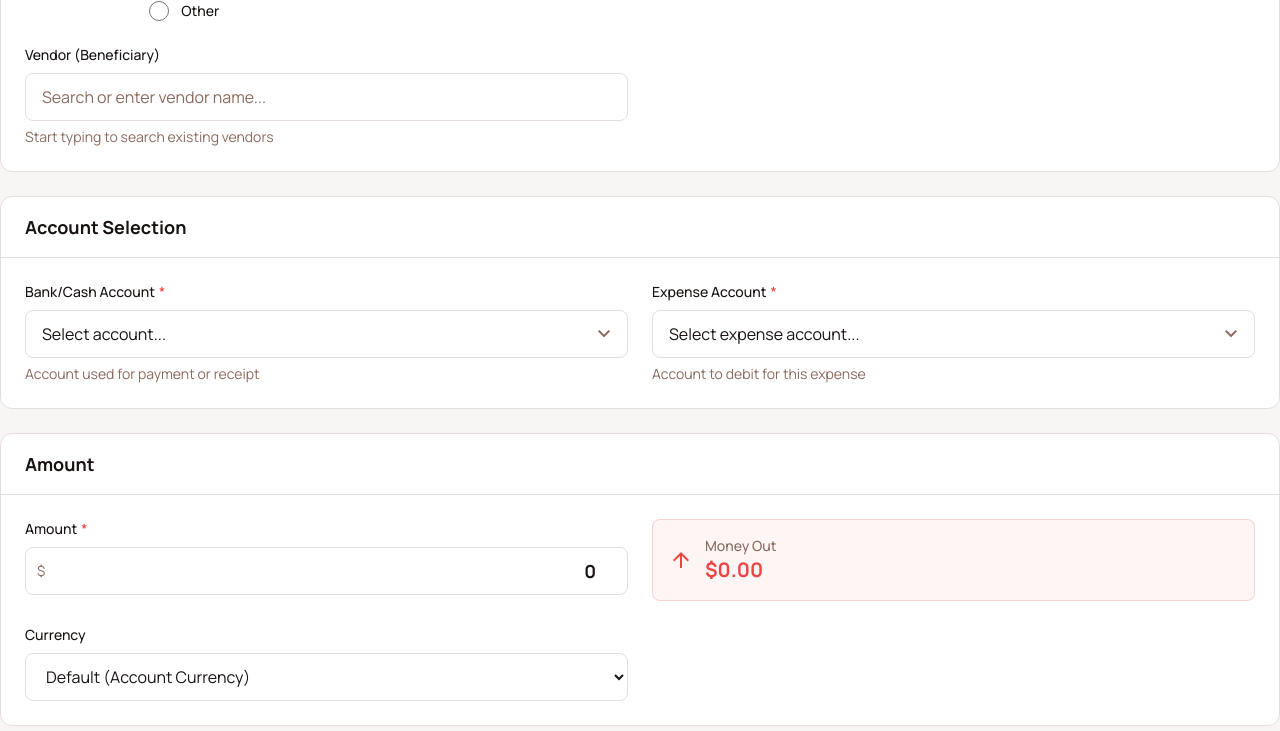
Test: VoucherFormPage type switching › switching to receipt swaps in the income account and money in, and clears the expense account
The width and height of the screenshot is (1280, 731).
(page scrolled)
Select "5200 - Rent Expense" in the dropdown with test id "voucher-expense-account-select" at x=954, y=334, box [652,310,1255,358]
(page scrolled)
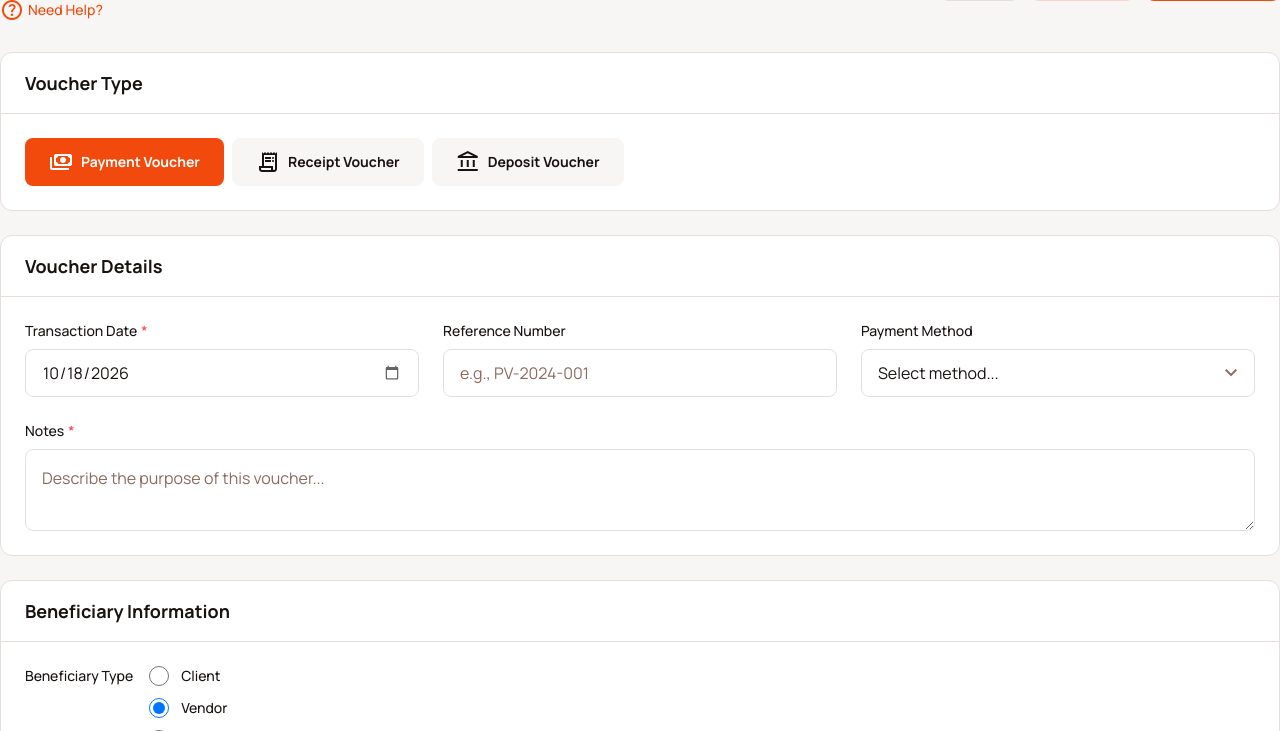
Click the button with test id "voucher-type-receipt" at x=328, y=162, box [232,138,424,186]
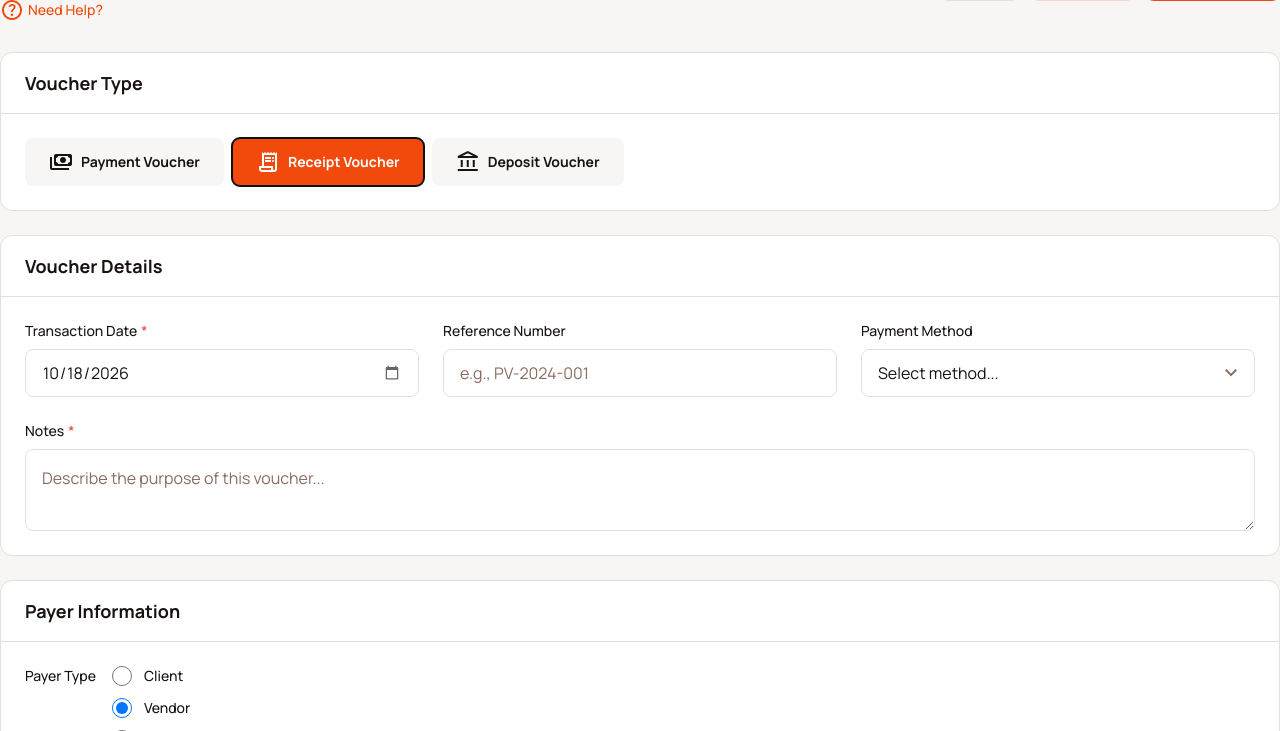
Expected: the heading "Payer Information" is shown, [25,599,180,623]
# Back to payment: the expense account chosen earlier was cleared.
Click the button with test id "voucher-type-payment" at x=124, y=162, box [25,138,224,186]
(page scrolled)
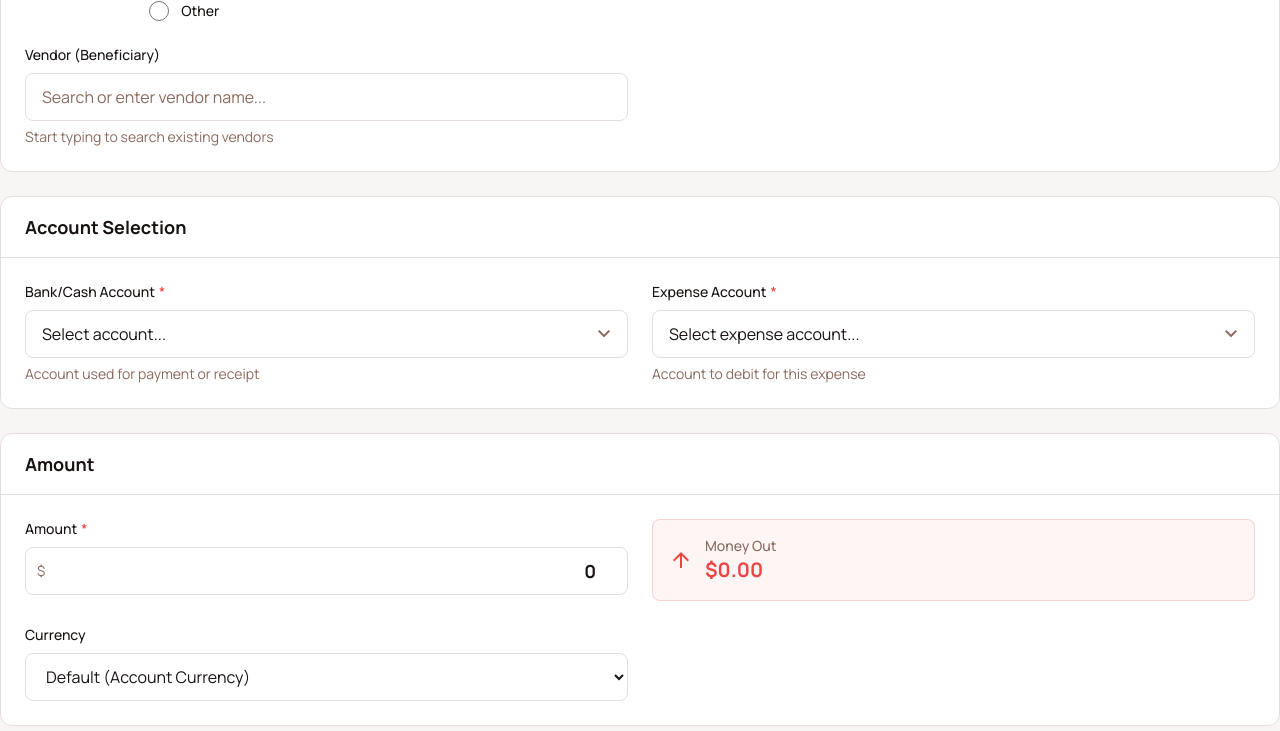
Expected: the dropdown with test id "voucher-expense-account-select" shows "Select expense account...", [652,310,1255,358]
